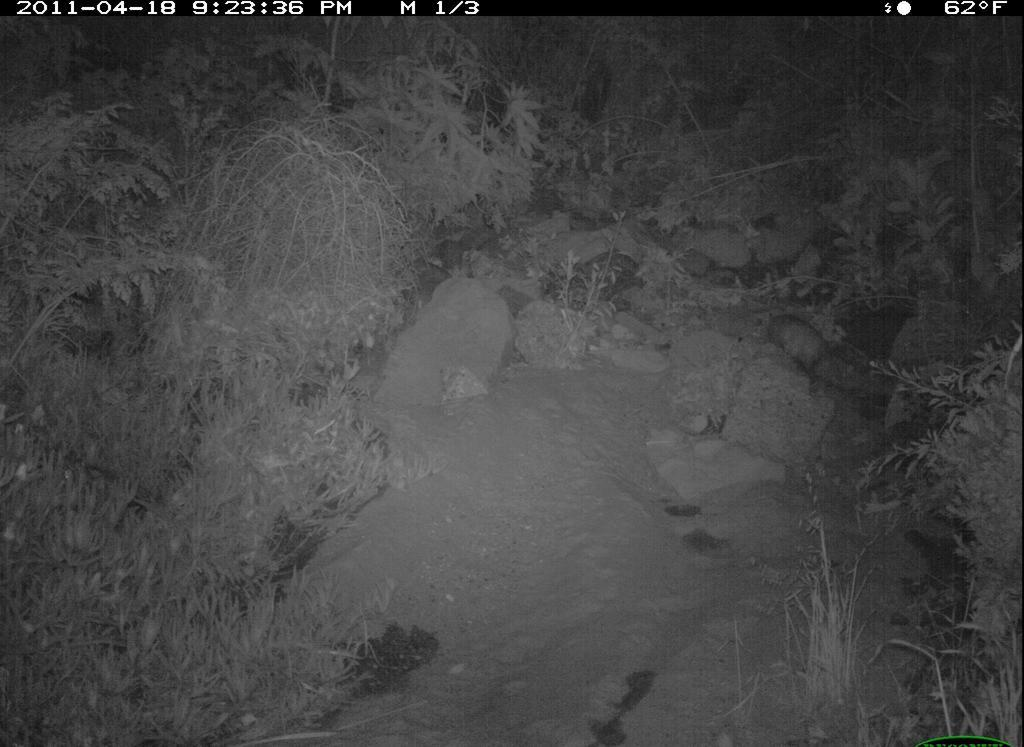opossum: (763, 299, 873, 400)
